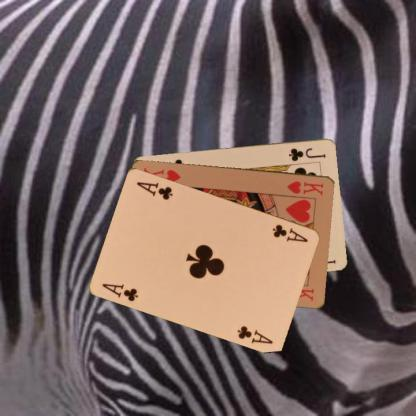Ac: (99, 280, 140, 303), (270, 221, 310, 244)
Jc: (286, 145, 327, 162)
Kh: (284, 178, 325, 196)
